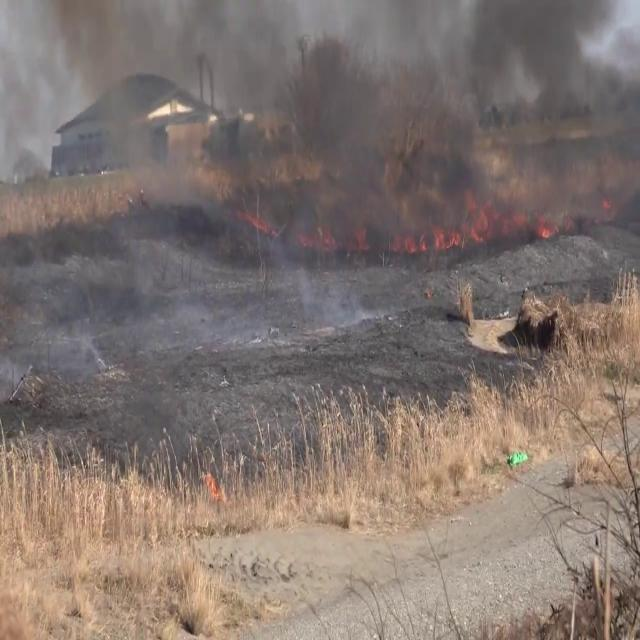Smoke: (1, 0, 635, 347)
